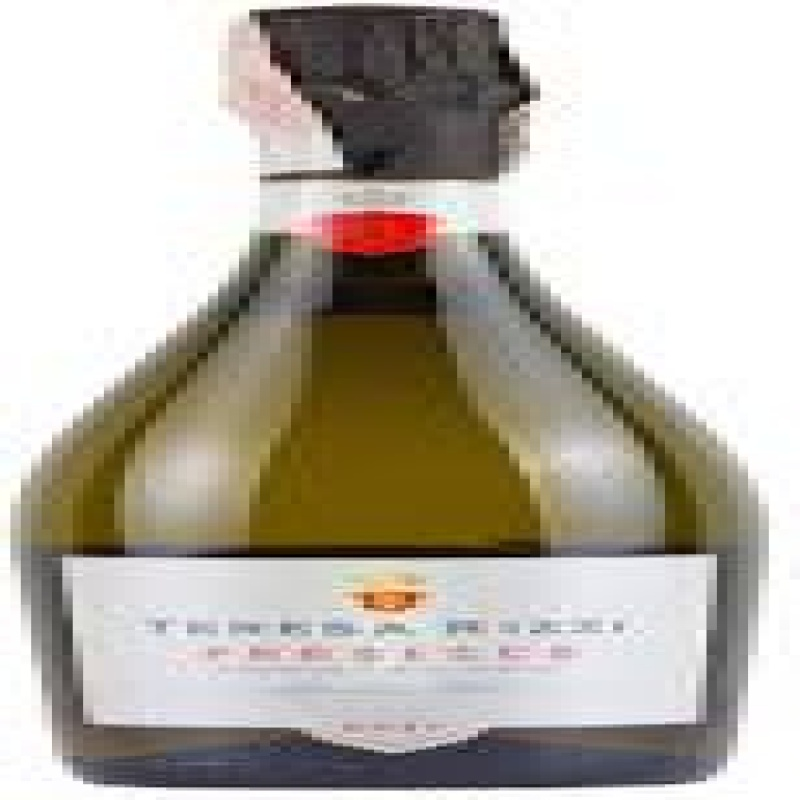wine: (58, 8, 748, 793)
